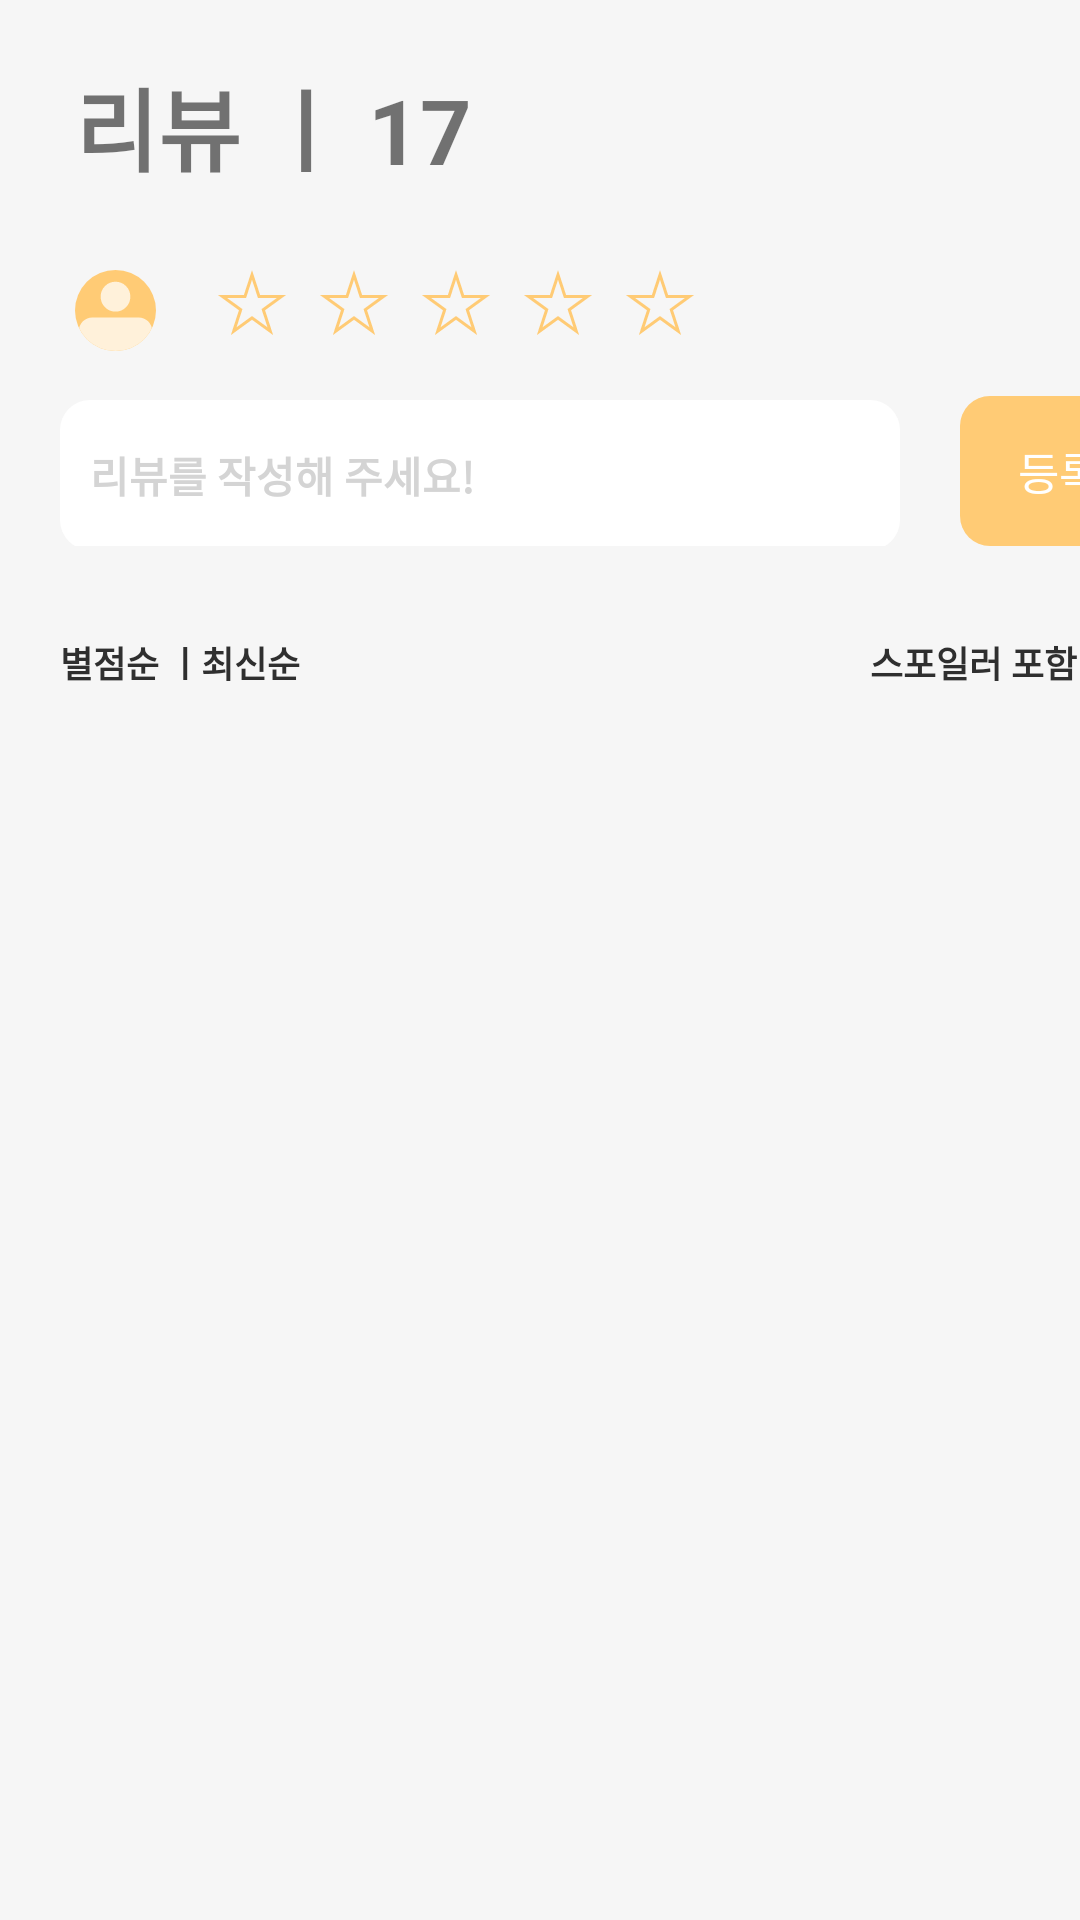

Icon bounding boxes for this 1080 x 1920 phone screenshot, format (x1, y1, x2, y2):
profile: (75, 270, 156, 351)
unfill star: (218, 271, 286, 335), (320, 271, 388, 335), (422, 271, 490, 335), (524, 271, 592, 335), (626, 271, 694, 335)
